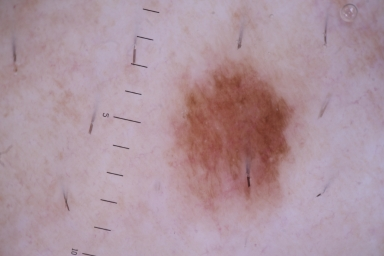nevus: (171, 63, 299, 205)
